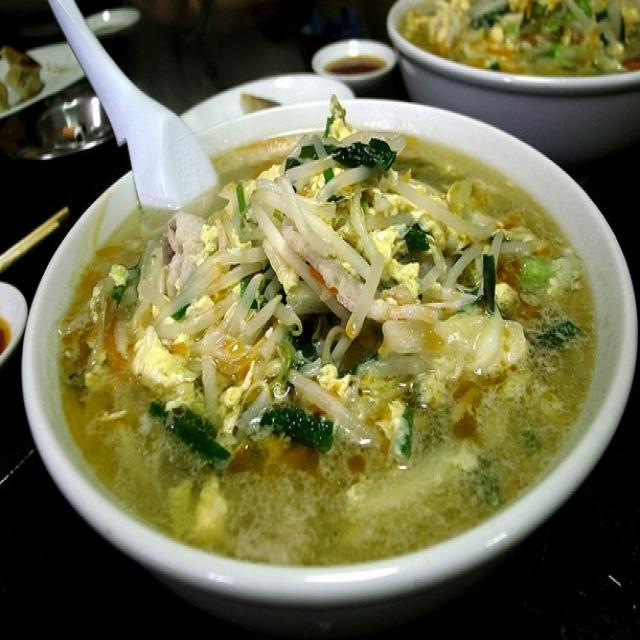面条主食: (33, 89, 614, 576)
